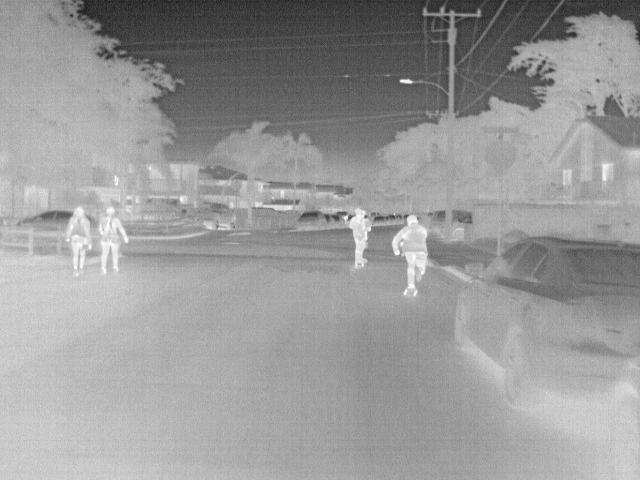car: (454, 238, 639, 409), (184, 200, 237, 228), (15, 207, 75, 230), (448, 208, 474, 241), (293, 210, 327, 231), (321, 213, 336, 229), (331, 214, 348, 228), (371, 214, 388, 228)
person: (390, 214, 429, 292), (96, 205, 131, 276), (65, 207, 94, 273), (348, 209, 367, 262)
